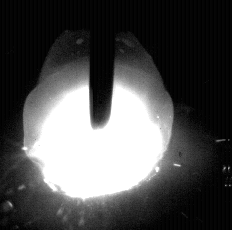arame: (91, 0, 113, 130)
poca: (23, 0, 173, 230)
